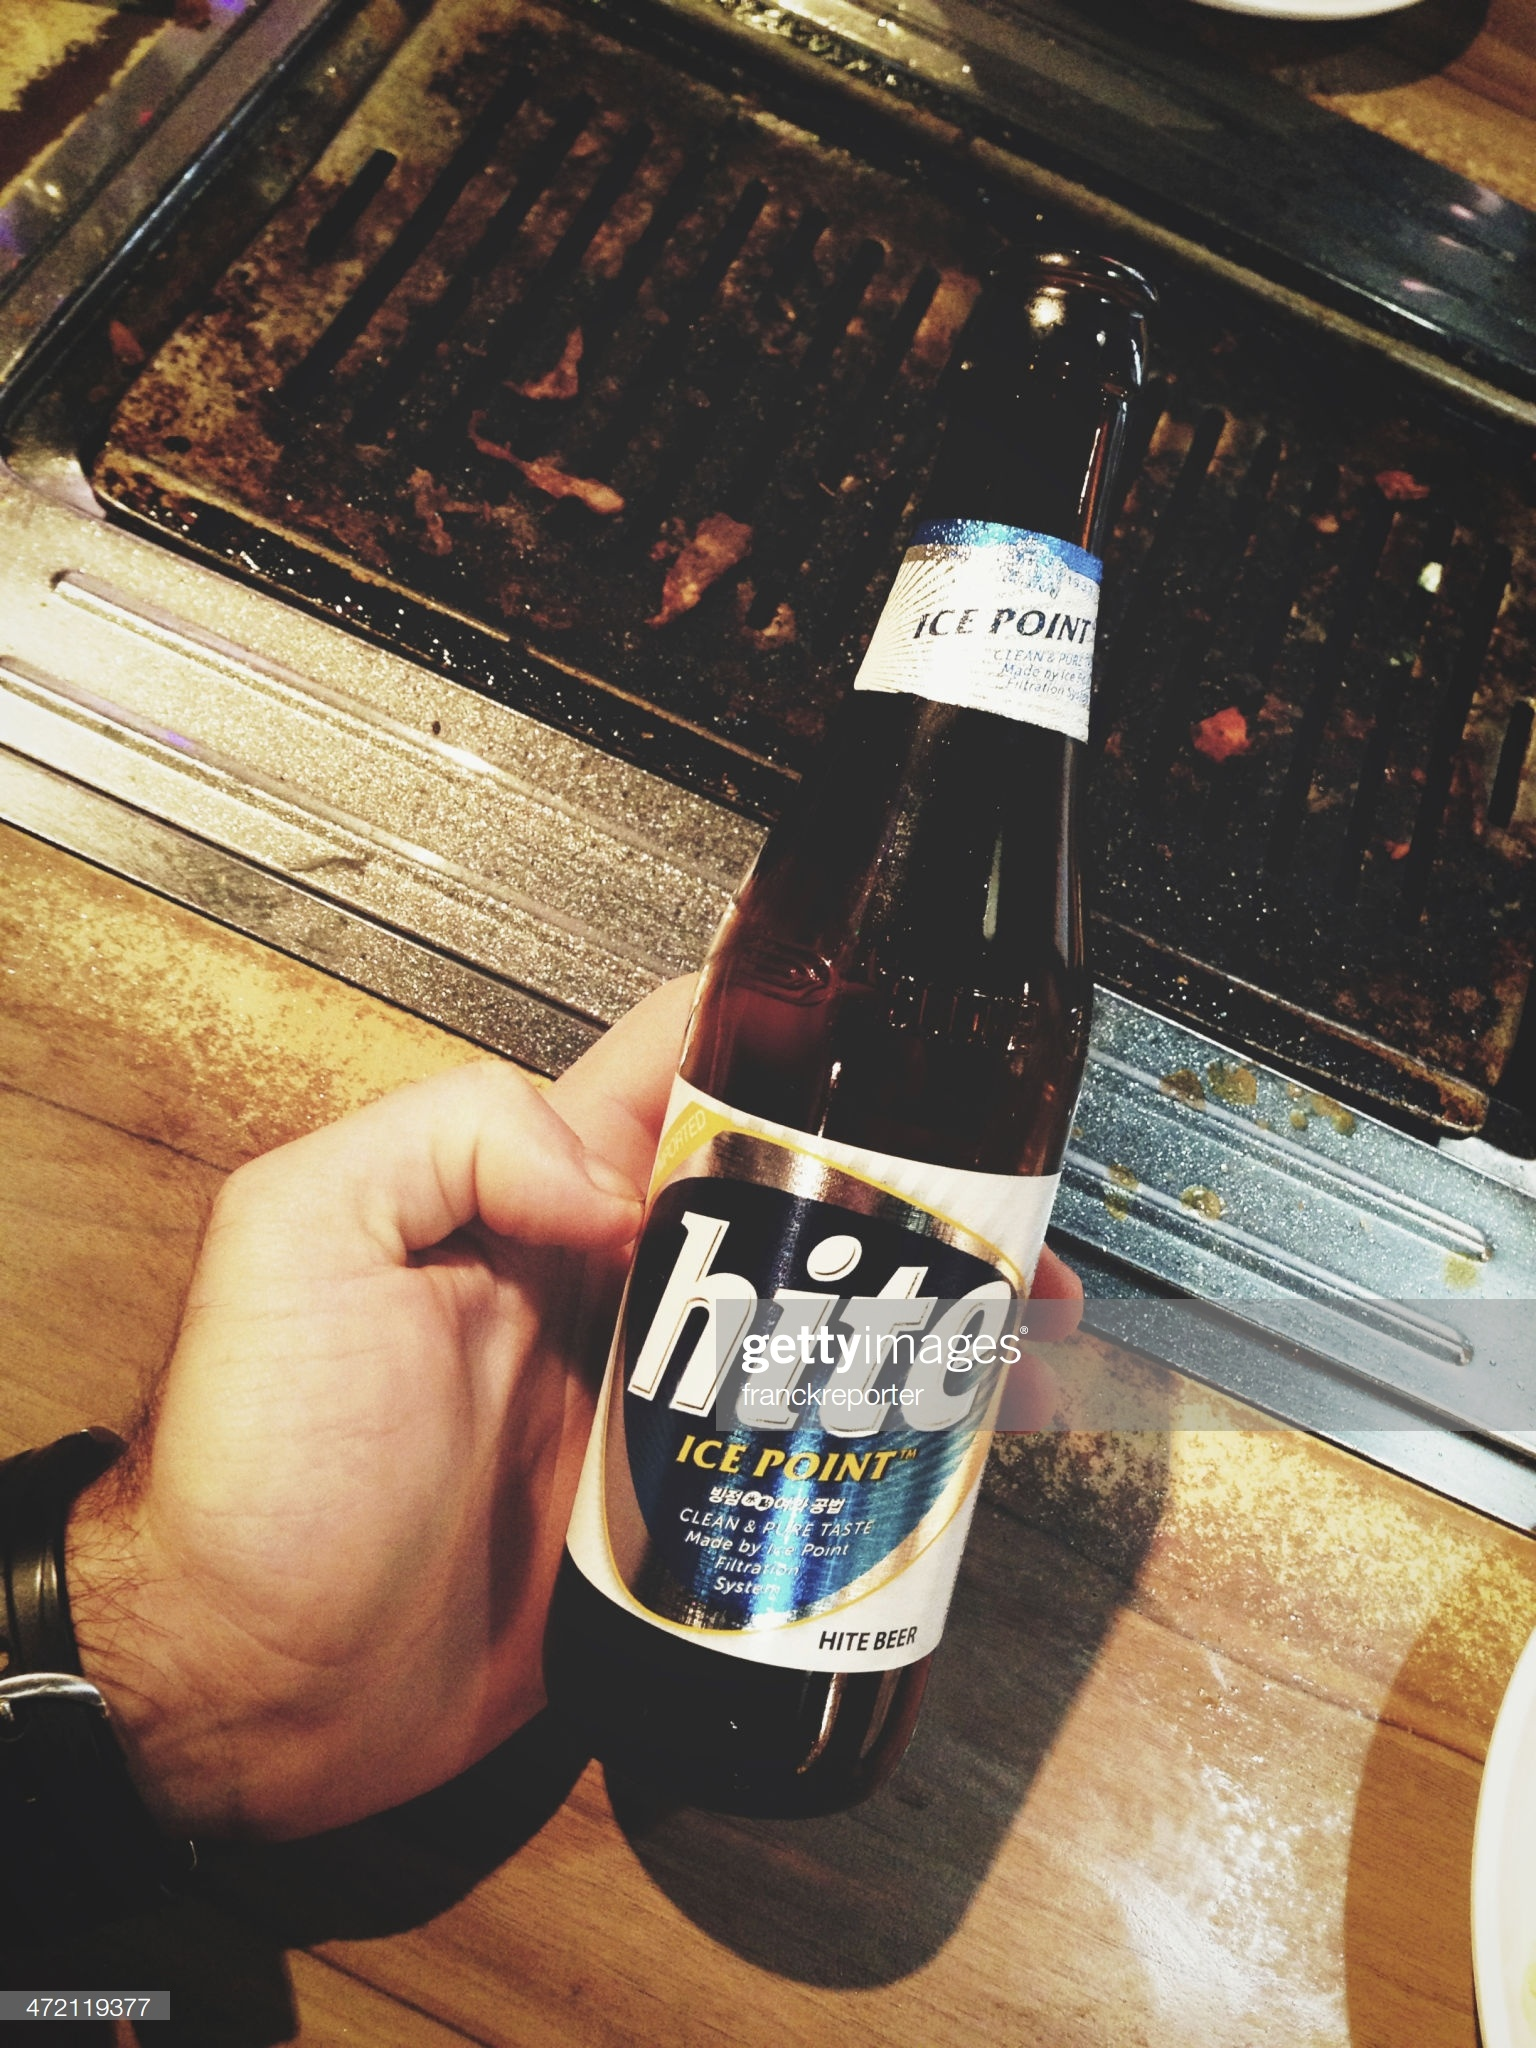beerBottle: (537, 248, 1176, 1801)
